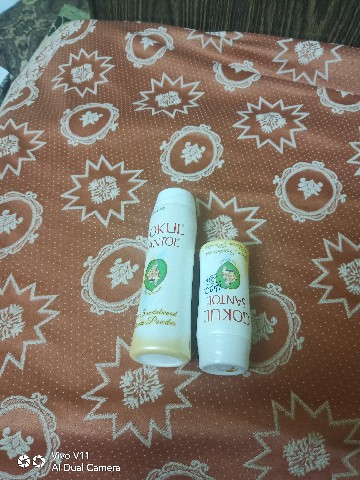gokulsantol big: (125, 172, 199, 370)
gokulsantol small: (194, 234, 269, 379)
